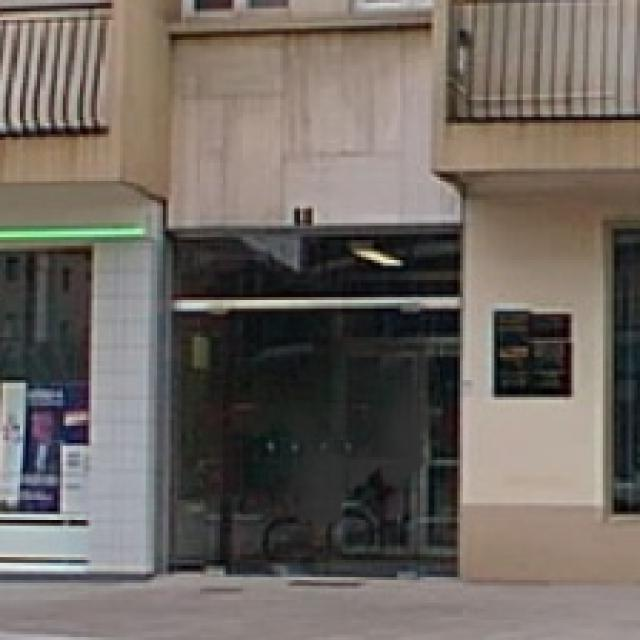smoke: (220, 303, 446, 537)
